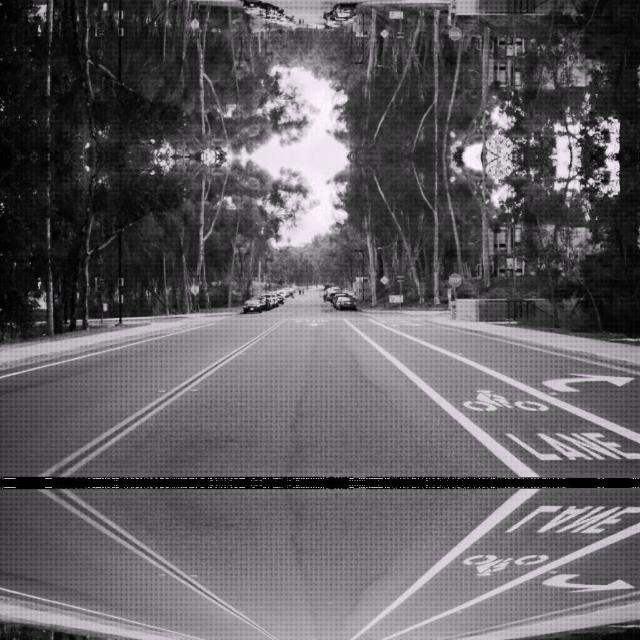stop: (448, 272, 462, 284), (448, 28, 462, 40)
